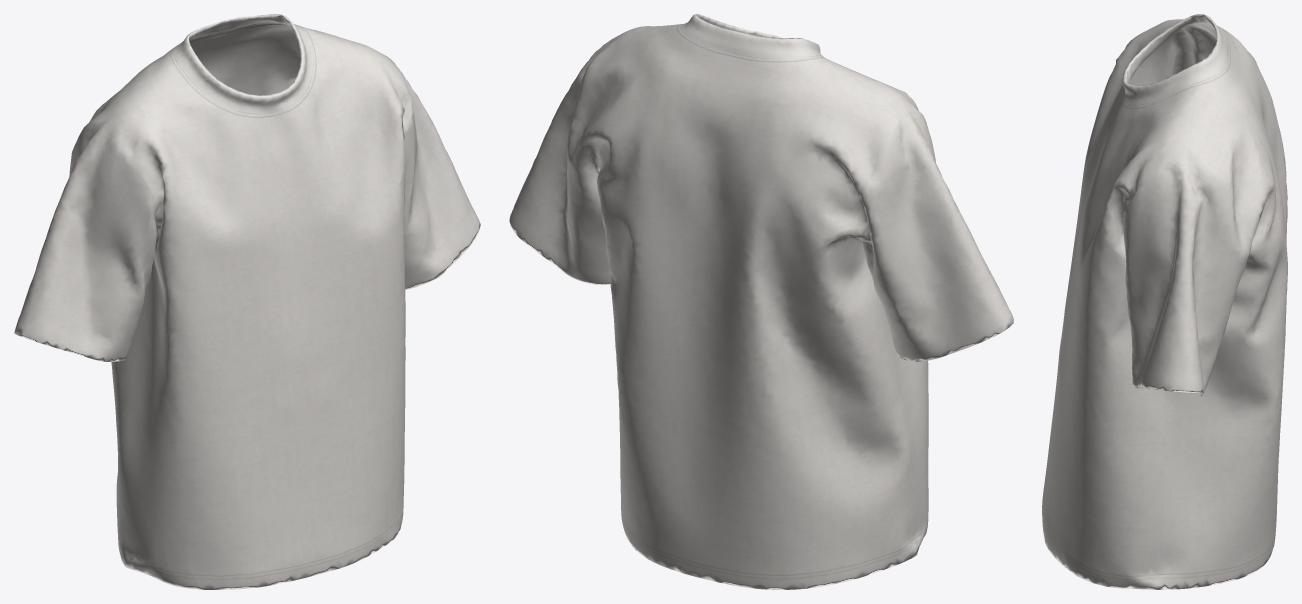
Rendered from shirt3.glb.
3 renders of one model, left to right at view 1: azimuth 30°, elevation 25°; view 2: azimuth 150°, elevation 25°; view 3: azimuth 270°, elevation 25°, orthographic. The views are drawn at different scales.
Visible parts, largest first — view 1: 10PD_2048; view 2: 10PD_2048; view 3: 10PD_2048.
Part boxes in pixels (x1,y1,x2,y2): 10PD_2048: (14, 14, 480, 589); 10PD_2048: (509, 14, 1013, 589); 10PD_2048: (1042, 14, 1287, 589).
Size of the model in its own units: 2.98 by 3.05 by 1.36.
Materials: 2 (2 with a texture image).
